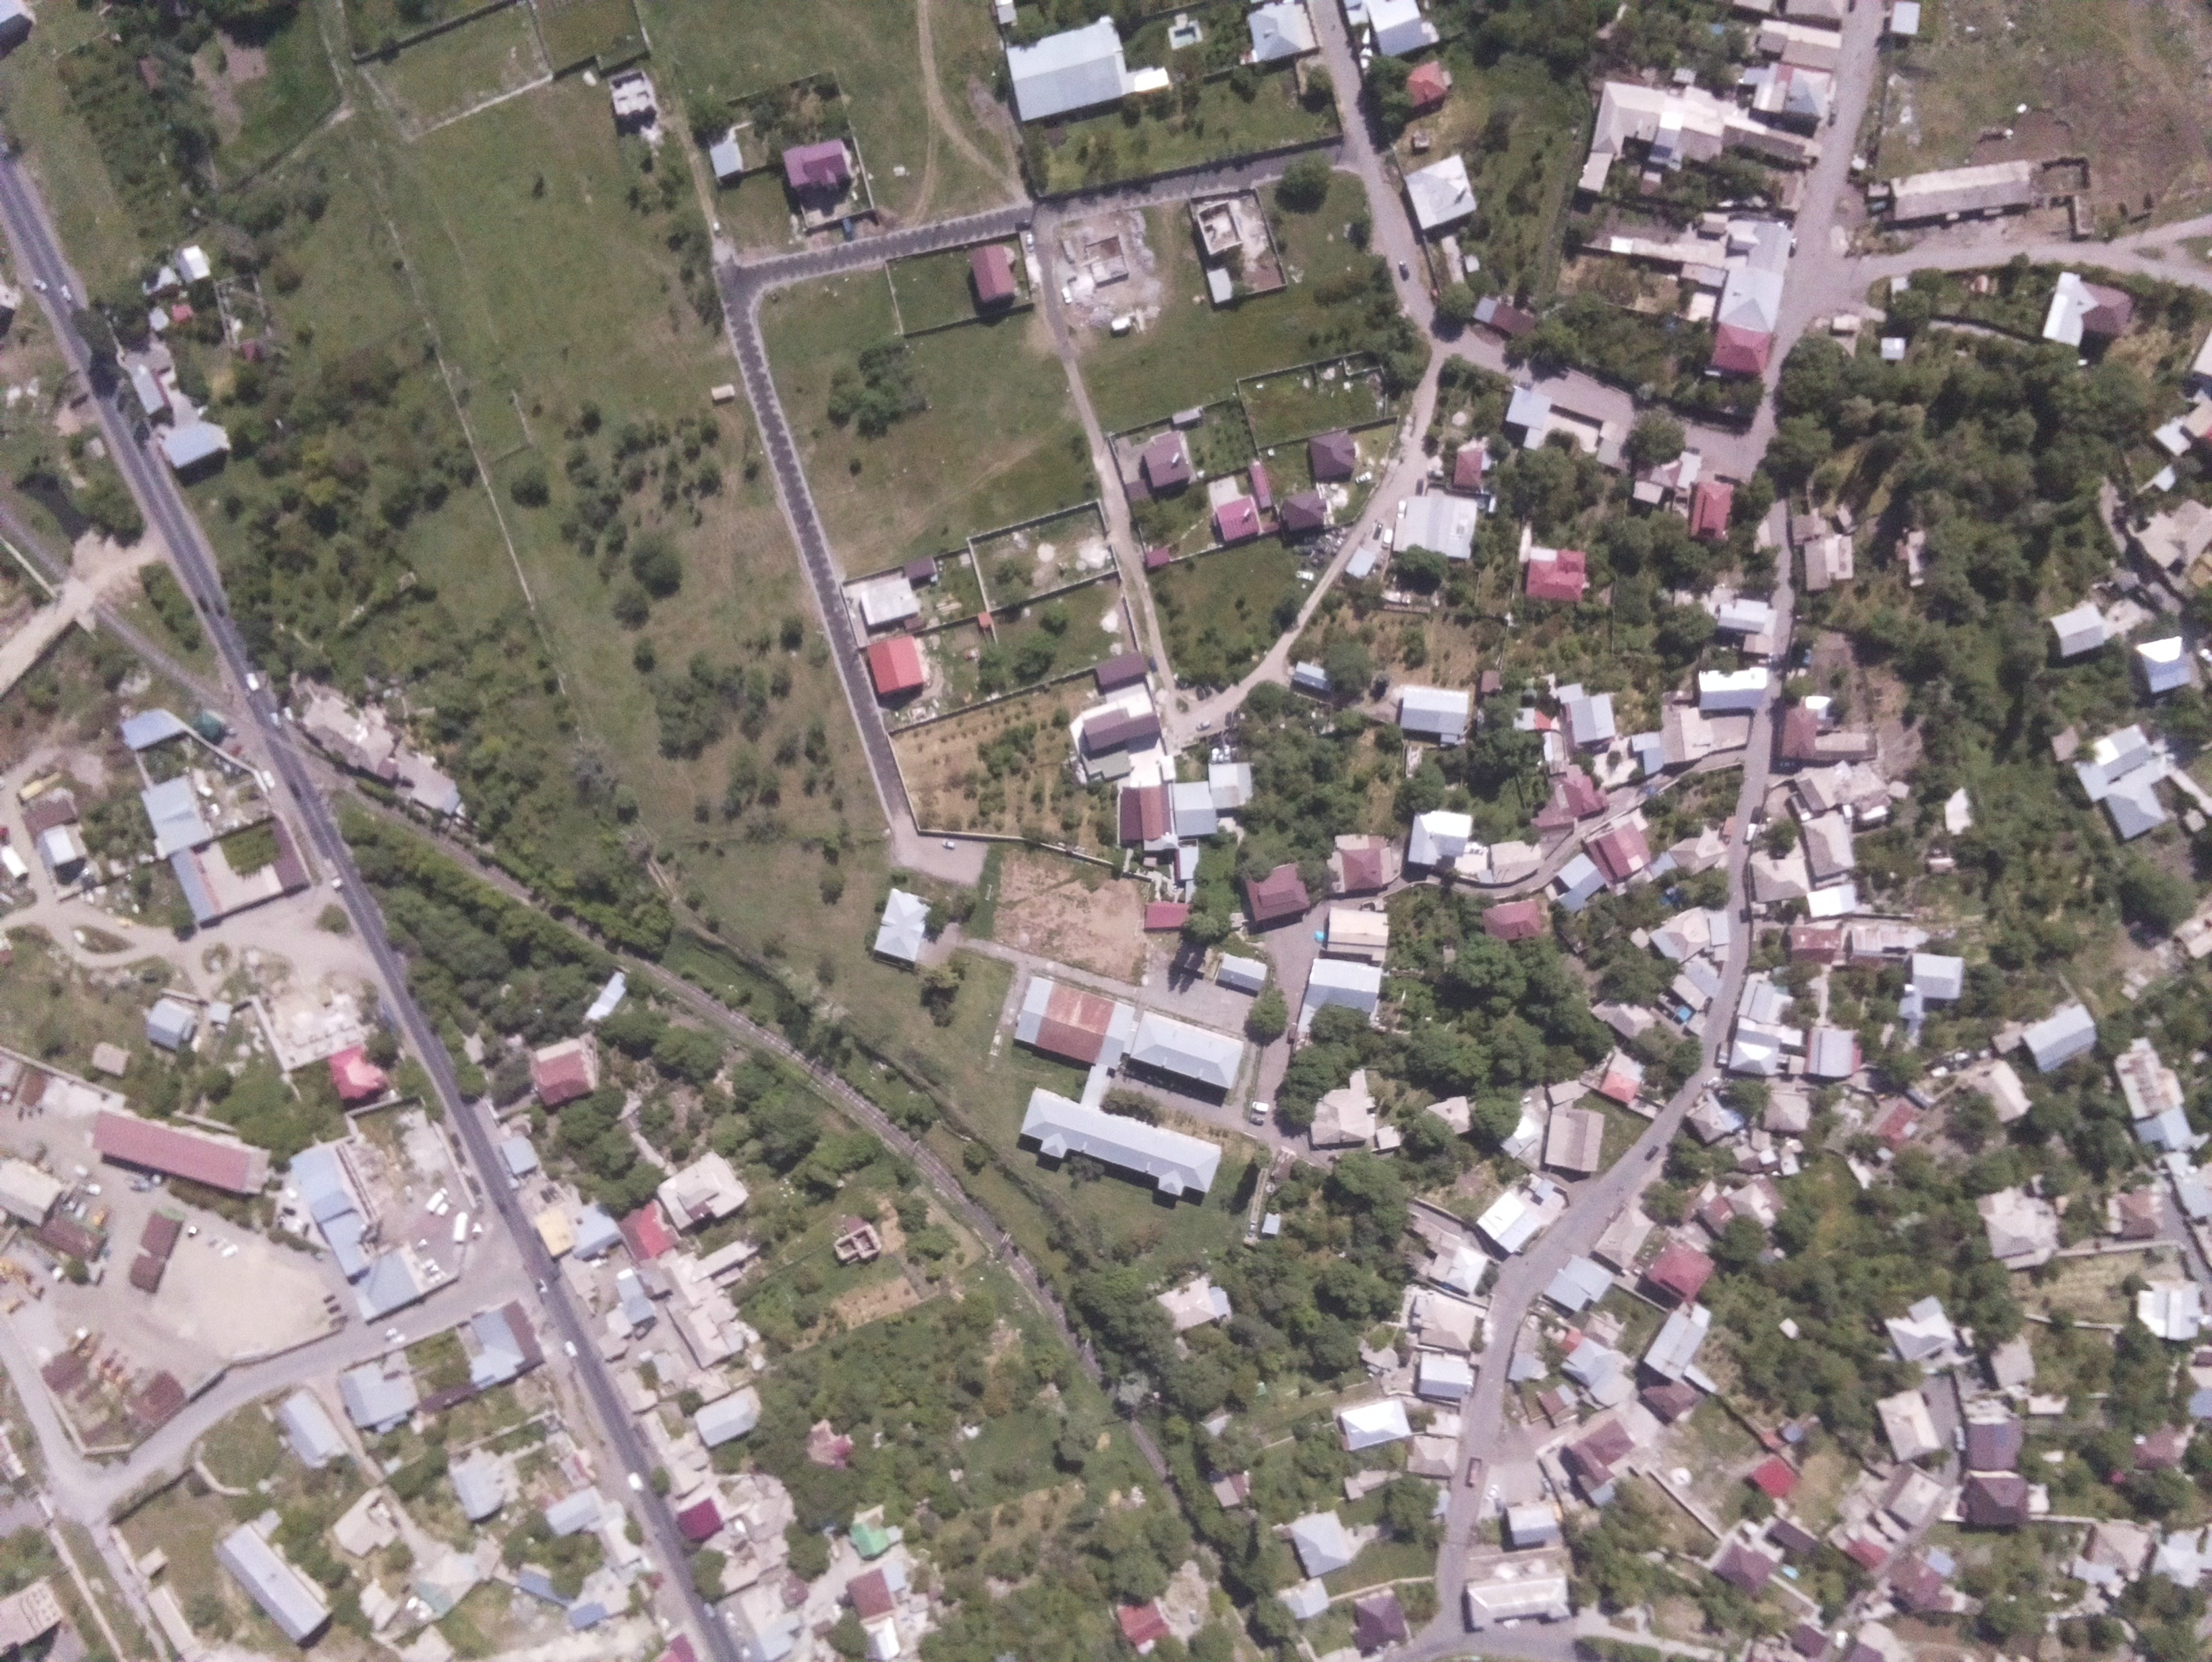car: (422, 1185, 447, 1213), (1056, 283, 1079, 309), (1395, 258, 1416, 286), (1294, 564, 1318, 585), (1643, 1140, 1662, 1166), (1248, 1098, 1274, 1117), (1021, 230, 1041, 255), (1351, 470, 1376, 489), (1786, 232, 1802, 262), (707, 218, 726, 241), (938, 834, 960, 854), (1700, 1074, 1723, 1093), (1192, 714, 1215, 733), (1377, 527, 1397, 550), (1425, 464, 1447, 484), (1247, 1110, 1271, 1128), (1838, 803, 1856, 828), (1393, 498, 1409, 522), (1367, 520, 1386, 539)
truck: (1786, 787, 1812, 824), (1713, 1040, 1732, 1068)
